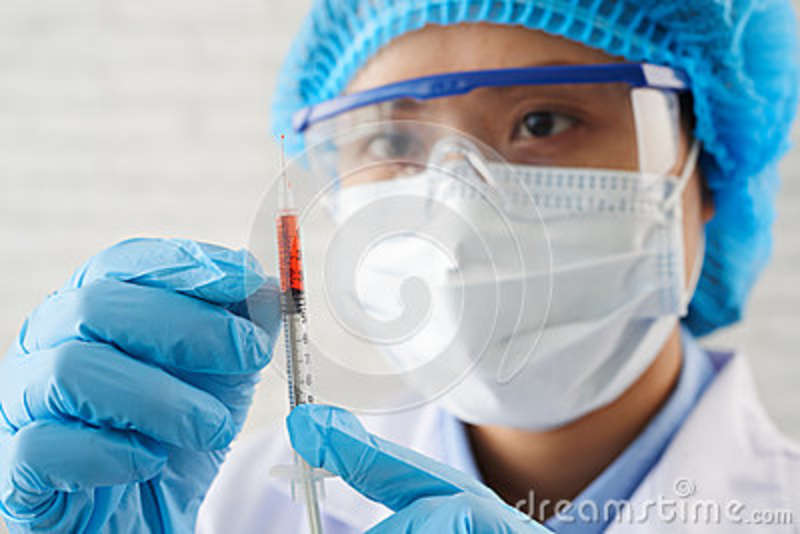mask: (336, 173, 698, 419)
